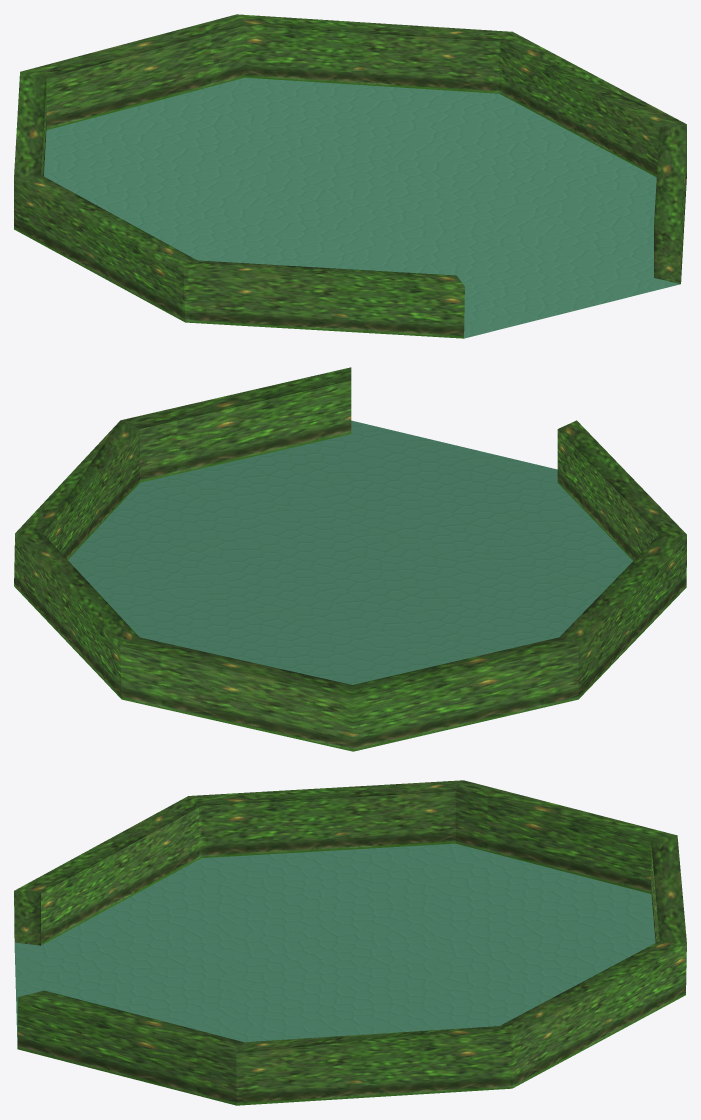
3 renders of one model, top to bottom at view 1: azimuth 30°, elevation 25°; view 2: azimuth 150°, elevation 25°; view 3: azimuth 270°, elevation 25°, orthographic. The views are drawn at different scales.
Parts seen in each view (by area): view 1: fw; view 2: fw; view 3: fw.
Boxes of the visible parts, bbox=[...] form: fw: bbox=[14, 14, 686, 338]; fw: bbox=[14, 367, 686, 751]; fw: bbox=[14, 780, 686, 1105].
Bounding box in the file's own units: 1968 × 175 × 2047.
2 materials, 2 textured.
